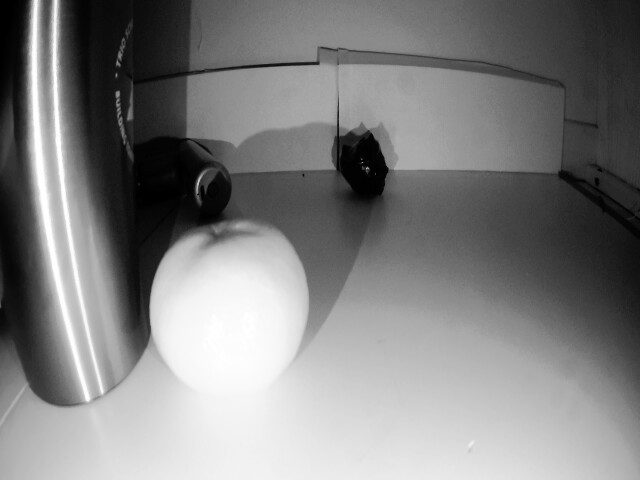black: (338, 140, 389, 201)
